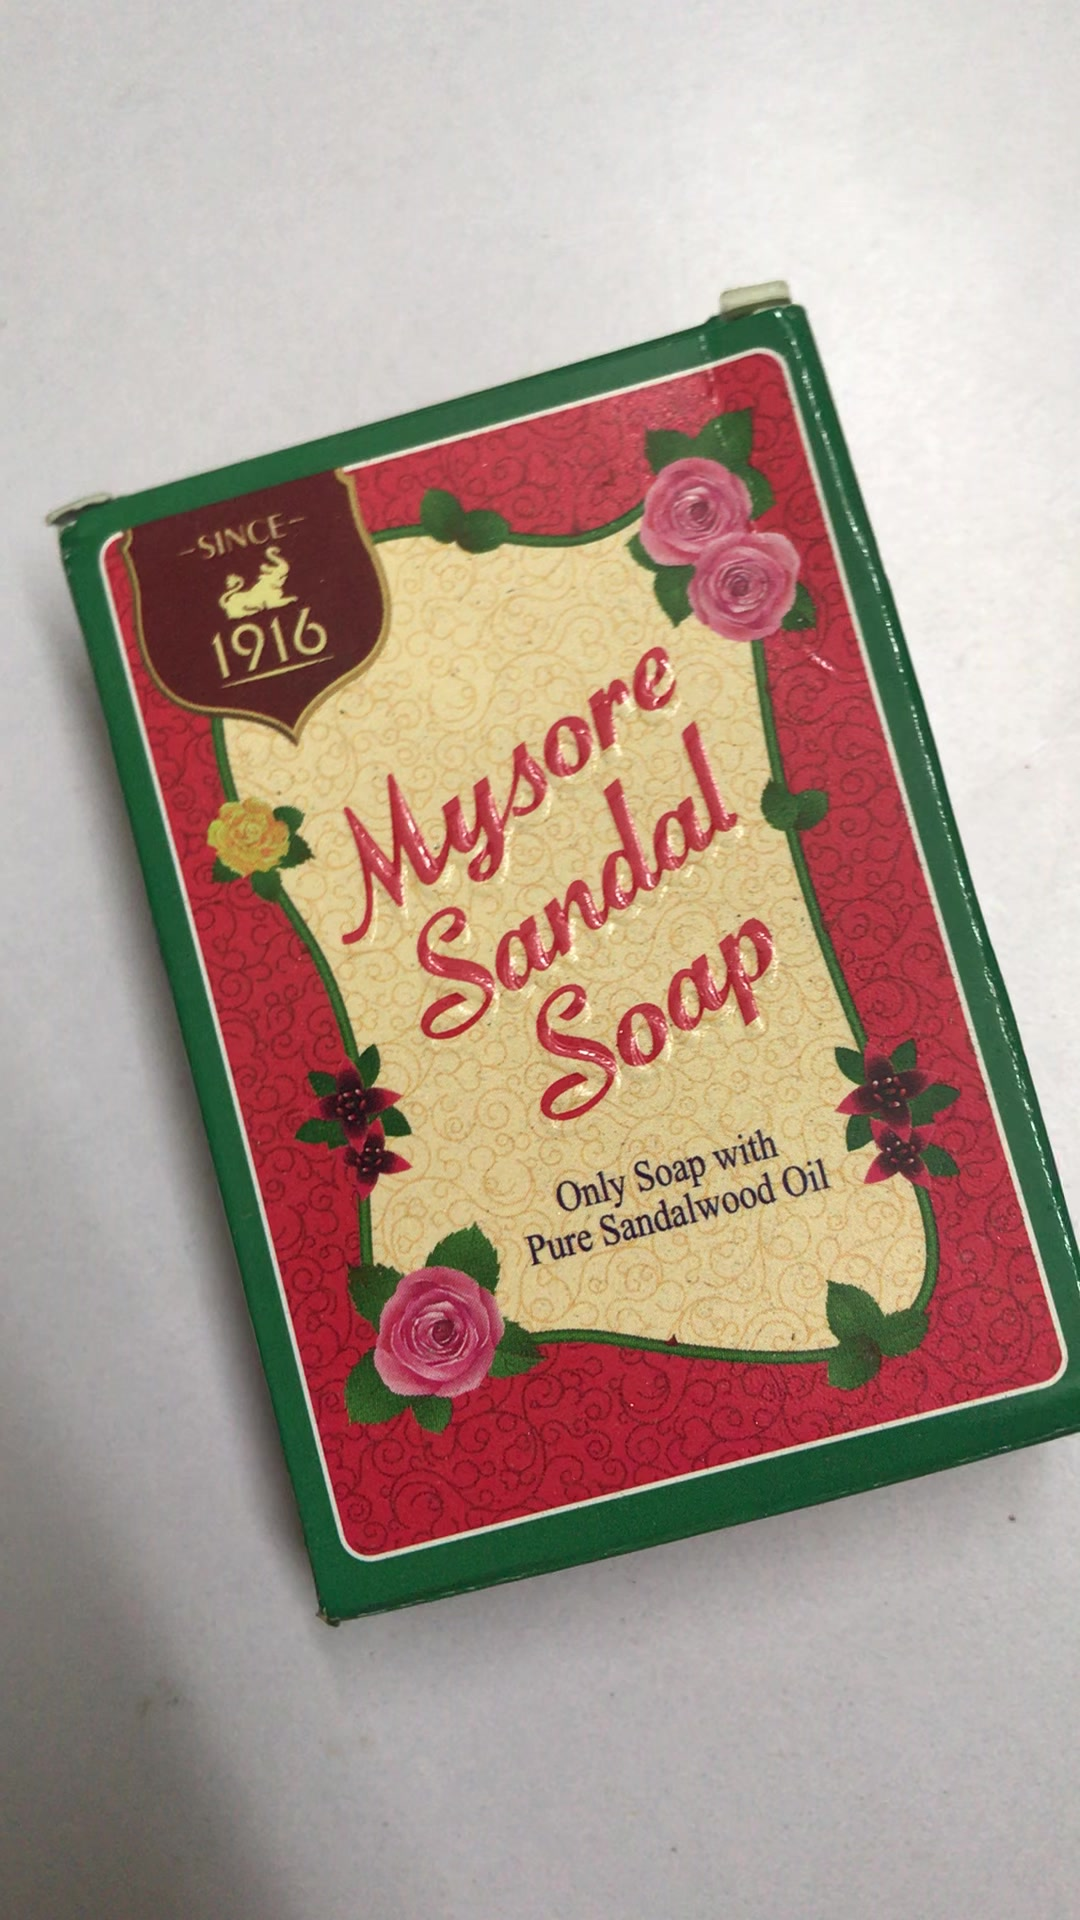mysore sandal soap: (55, 295, 1080, 1623)
